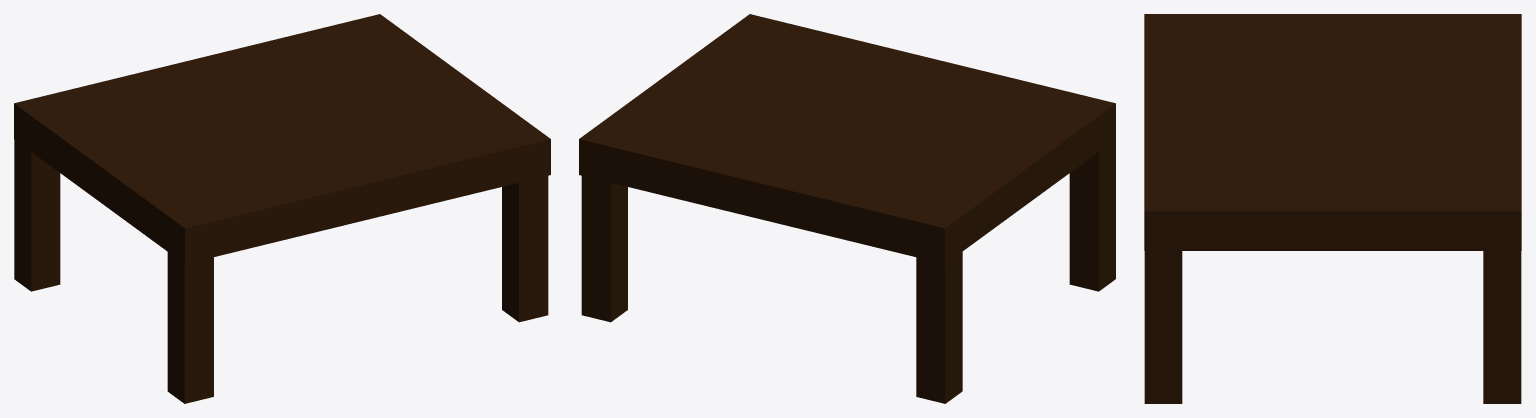
File: asztal.FBX
3 renders of one model, left to right at view 1: azimuth 30°, elevation 25°; view 2: azimuth 150°, elevation 25°; view 3: azimuth 270°, elevation 25°, orthographic. The views are drawn at different scales.
Parts seen in each view (by area): view 1: asztal; view 2: asztal; view 3: asztal.
Part boxes in pixels (x1,y1,x2,y2): asztal: (14, 14, 550, 403); asztal: (579, 14, 1115, 403); asztal: (1144, 14, 1521, 403).
Size of the model in its own units: 251 by 115 by 203.
